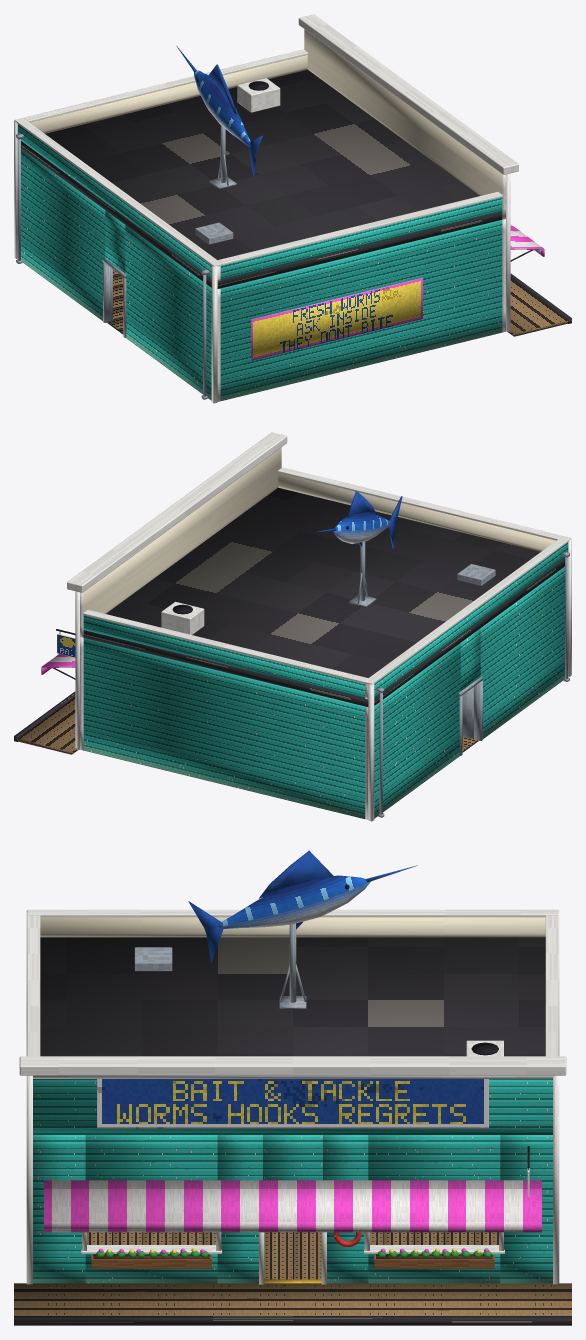
The model's file is p_pj_bait.glb.
The picture shows the model from 3 angles, top to bottom: view 1: azimuth 30°, elevation 25°; view 2: azimuth 150°, elevation 25°; view 3: azimuth 270°, elevation 25°; orthographic projection. The views are drawn at different scales.
Parts seen in each view (by area): view 1: p_pj_bait_lod0; view 2: p_pj_bait_lod0; view 3: p_pj_bait_lod0.
Boxes of the visible parts, bbox=[...] form: p_pj_bait_lod0: bbox=[14, 14, 571, 403]; p_pj_bait_lod0: bbox=[14, 432, 571, 821]; p_pj_bait_lod0: bbox=[14, 850, 571, 1325].
Size of what is drawn, in the model's own units: 14.58 by 9.24 by 14.8.
Materials: 3 (1 with a texture image).
